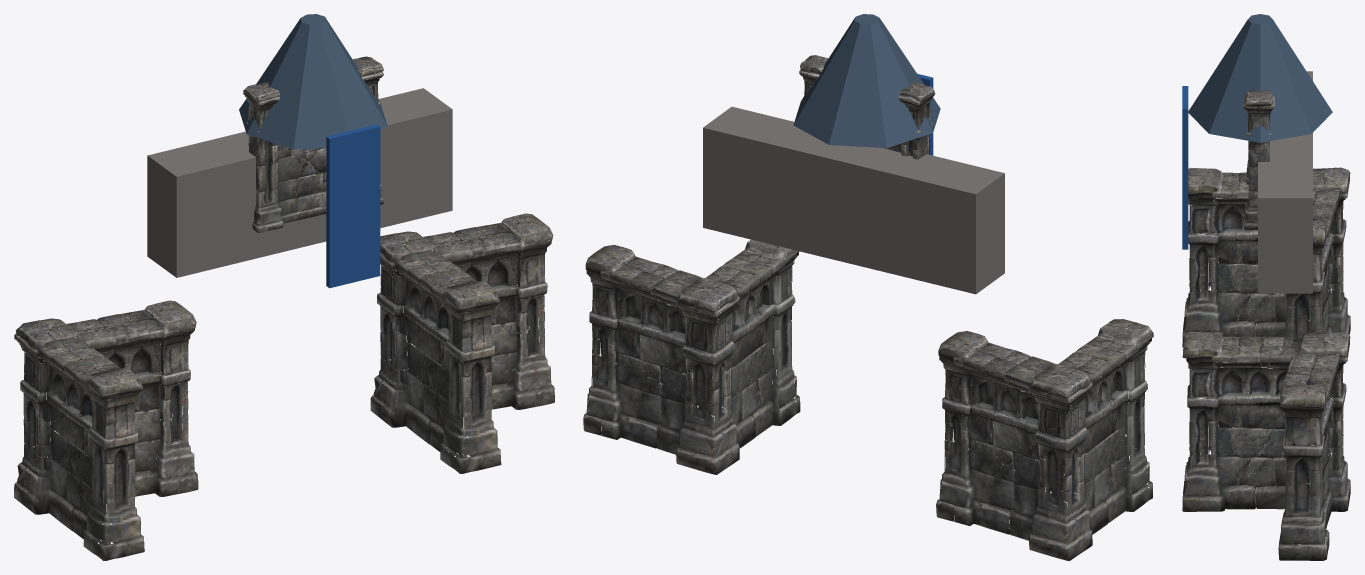
File: Valoria_MainGate_SkinV1.glb
3 renders of one model, left to right at view 1: azimuth 30°, elevation 25°; view 2: azimuth 150°, elevation 25°; view 3: azimuth 270°, elevation 25°, orthographic. The views are drawn at different scales.
Visible parts, largest first — view 1: Gate west pier · Eldoria_MultiPiece_Group_01, Gate west pier · Eldoria_MultiPiece_Group_01.001, Gate hidden bridge support, Authored slate crown, Heraldic banner, Gate bridge skin · Eldoria_MultiPiece_Group_05; view 2: Gate west pier · Eldoria_MultiPiece_Group_01, Gate west pier · Eldoria_MultiPiece_Group_01.001, Gate hidden bridge support, Authored slate crown, Gate bridge skin · Eldoria_MultiPiece_Group_05; view 3: Gate west pier · Eldoria_MultiPiece_Group_01.001, Gate west pier · Eldoria_MultiPiece_Group_01, Authored slate crown, Gate hidden bridge support, Gate bridge skin · Eldoria_MultiPiece_Group_05, Heraldic banner.
Boxes of the visible parts, x1,y1,x2,y2 form: Gate west pier · Eldoria_MultiPiece_Group_01: (14,300,198,560); Gate west pier · Eldoria_MultiPiece_Group_01.001: (370,213,554,473); Gate hidden bridge support: (147,88,452,277); Authored slate crown: (239,14,387,149); Heraldic banner: (326,124,380,288); Gate bridge skin · Eldoria_MultiPiece_Group_05: (243,56,383,232); Gate west pier · Eldoria_MultiPiece_Group_01: (936,319,1153,560); Gate west pier · Eldoria_MultiPiece_Group_01.001: (583,239,800,474); Gate hidden bridge support: (703,106,1004,294); Authored slate crown: (793,14,940,147); Gate bridge skin · Eldoria_MultiPiece_Group_05: (799,55,935,159); Gate west pier · Eldoria_MultiPiece_Group_01.001: (1182,331,1350,560); Gate west pier · Eldoria_MultiPiece_Group_01: (1182,167,1350,354); Authored slate crown: (1188,14,1332,142); Gate hidden bridge support: (1258,71,1312,293); Gate bridge skin · Eldoria_MultiPiece_Group_05: (1243,90,1274,230); Heraldic banner: (1182,86,1188,249).
Bounding box in the file's own units: 4.4 × 3.76 × 1.35.
5 materials, 2 textured.
